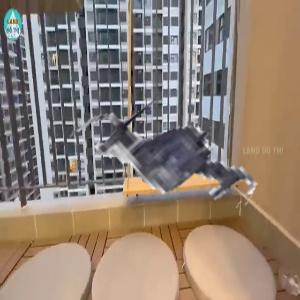drone: (81, 67, 267, 253)
